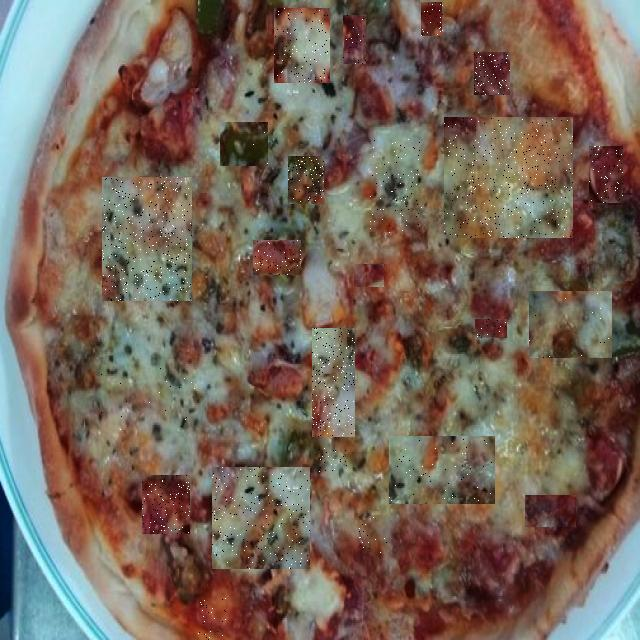Cheese: (444, 117, 573, 238), (102, 177, 192, 301), (212, 467, 310, 569), (389, 436, 495, 504), (101, 364, 197, 432), (529, 292, 612, 359), (370, 138, 422, 233), (312, 328, 355, 437), (274, 8, 330, 83)
Green Pepper: (220, 122, 268, 166), (288, 156, 324, 204), (197, 597, 226, 640)
Ham: (142, 475, 190, 534), (589, 146, 623, 203), (525, 495, 576, 527), (474, 52, 510, 95), (343, 15, 366, 66), (358, 516, 388, 554), (422, 2, 444, 36), (319, 448, 347, 473), (354, 264, 384, 287), (475, 319, 507, 338)
Jalapenoes: (253, 240, 301, 275)
Pizza: (0, 0, 640, 640)
